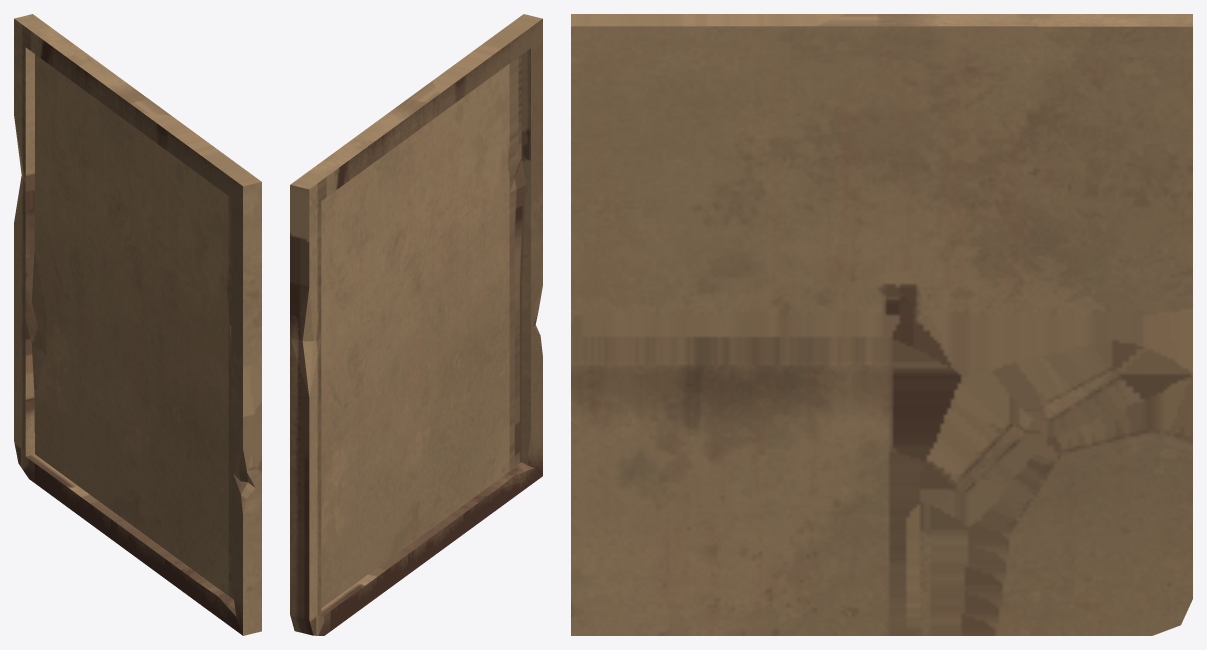
Rendered from Small Tablet .fbx.
3 renders of one model, left to right at view 1: azimuth 30°, elevation 25°; view 2: azimuth 150°, elevation 25°; view 3: azimuth 270°, elevation 25°, orthographic. The views are drawn at different scales.
Visible parts, largest first — view 1: Plane.006; view 2: Plane.006; view 3: Plane.006.
Part boxes in pixels (left/top/right/bottom): Plane.006: left=14, top=14, right=261, bottom=635; Plane.006: left=290, top=14, right=542, bottom=635; Plane.006: left=571, top=14, right=1192, bottom=635.
Size of the model in its own units: 15.65 by 354 by 327.
1 material, 1 textured.
